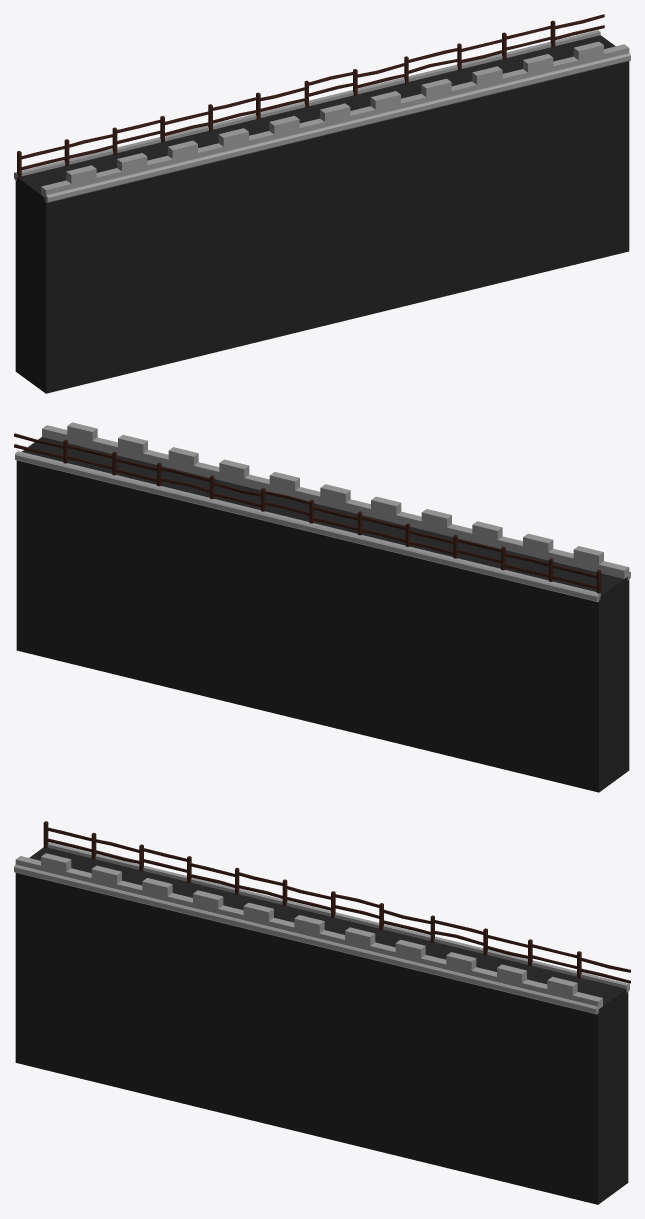
Rendered from port_wall_b.FBX.
3 views of the same model, one above another, from view 1: azimuth 30°, elevation 25°; view 2: azimuth 150°, elevation 25°; view 3: azimuth 330°, elevation 25° (orthographic).
Visible parts, largest first — view 1: port_wall_b; view 2: port_wall_b; view 3: port_wall_b.
Boxes of the visible parts, left/top/right/bottom form: port_wall_b: left=14, top=14, right=630, bottom=393; port_wall_b: left=14, top=422, right=630, bottom=792; port_wall_b: left=14, top=821, right=630, bottom=1204.
Bounding box in the file's own units: 5032 × 1809 × 500.
